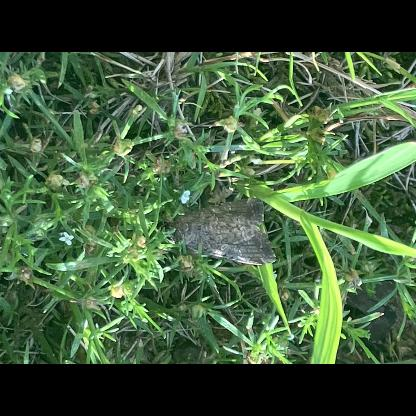Fall Armyworm Moth: (155, 196, 279, 268)
